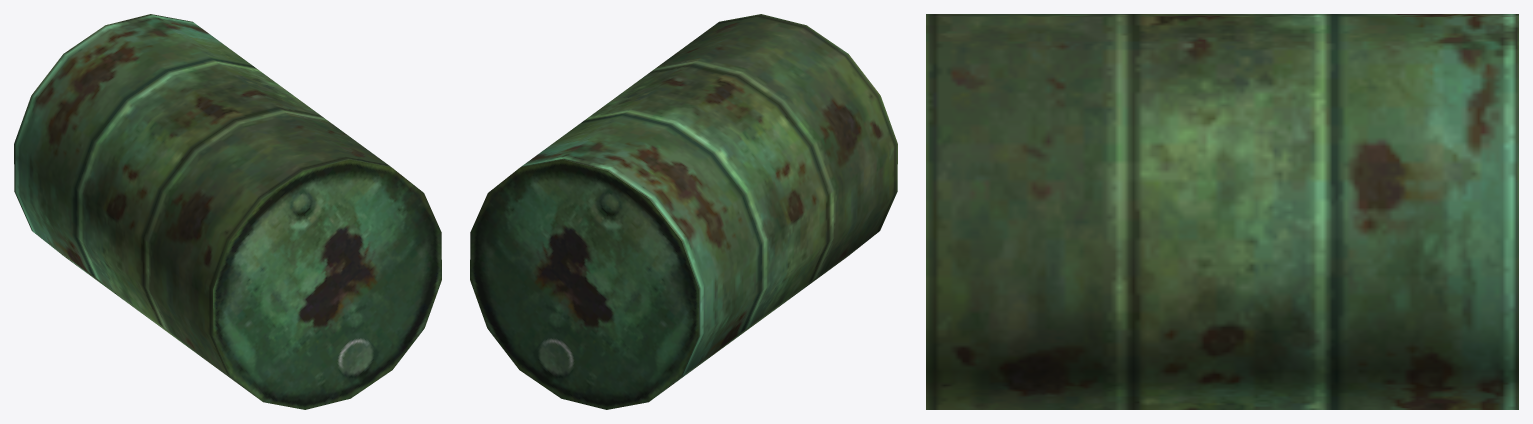
Rendered from od_single_on_side_green.fbx.
3 views of the same model, side by side, from view 1: azimuth 30°, elevation 25°; view 2: azimuth 150°, elevation 25°; view 3: azimuth 270°, elevation 25° (orthographic). The views are drawn at different scales.
Visible parts, largest first — view 1: mesh_0; view 2: mesh_0; view 3: mesh_0.
Part boxes in pixels (left/top/right/bottom): mesh_0: left=14, top=14, right=441, bottom=409; mesh_0: left=470, top=14, right=897, bottom=409; mesh_0: left=926, top=14, right=1518, bottom=409.
Bounding box in the file's own units: 58.59 × 58.59 × 88.26.
1 material, 1 textured.
